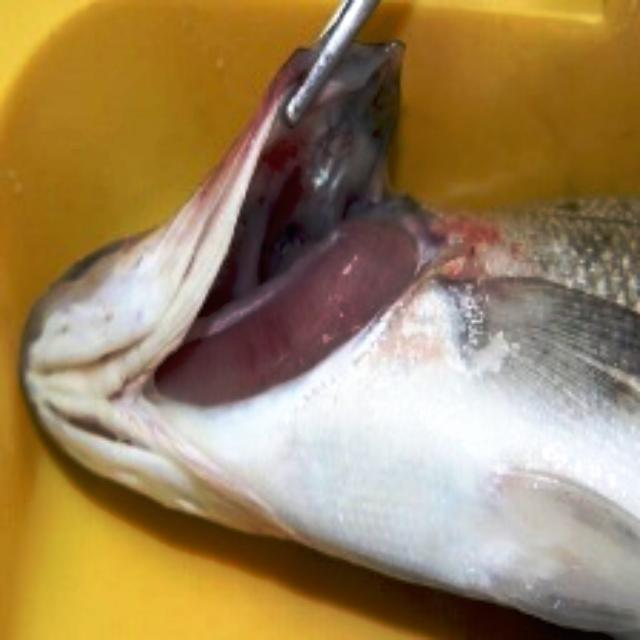Flavobacterium -Bacterial Gill Disease-: (26, 43, 637, 634), (29, 43, 637, 634), (26, 46, 637, 634)
